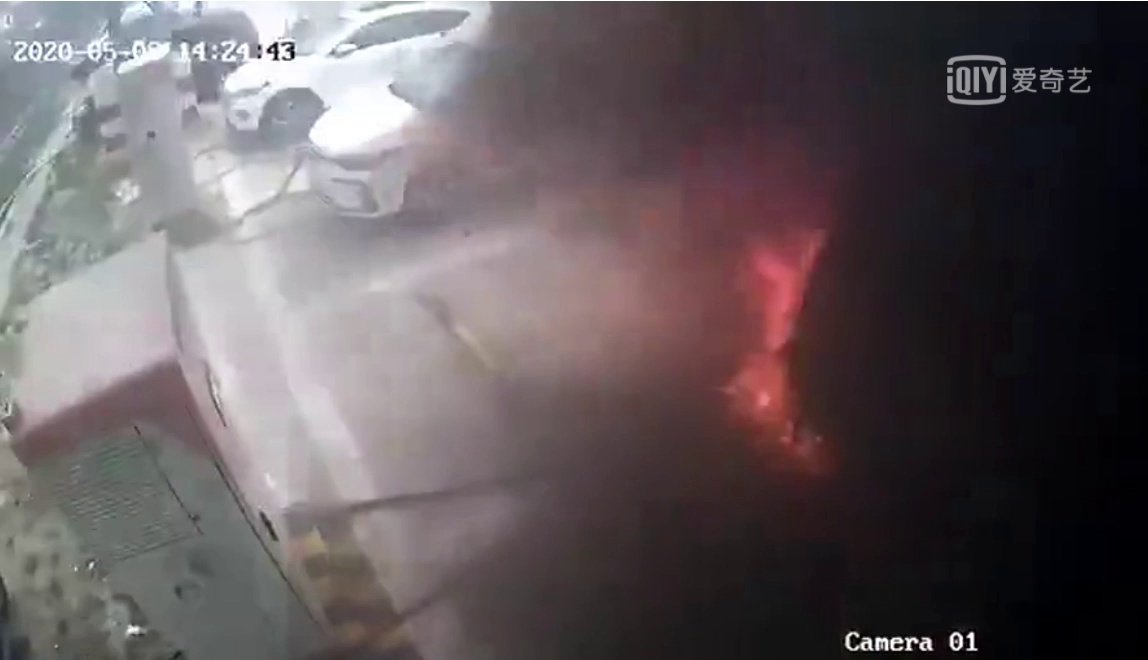fire: (711, 210, 859, 471)
smoke: (476, 17, 1126, 624)
